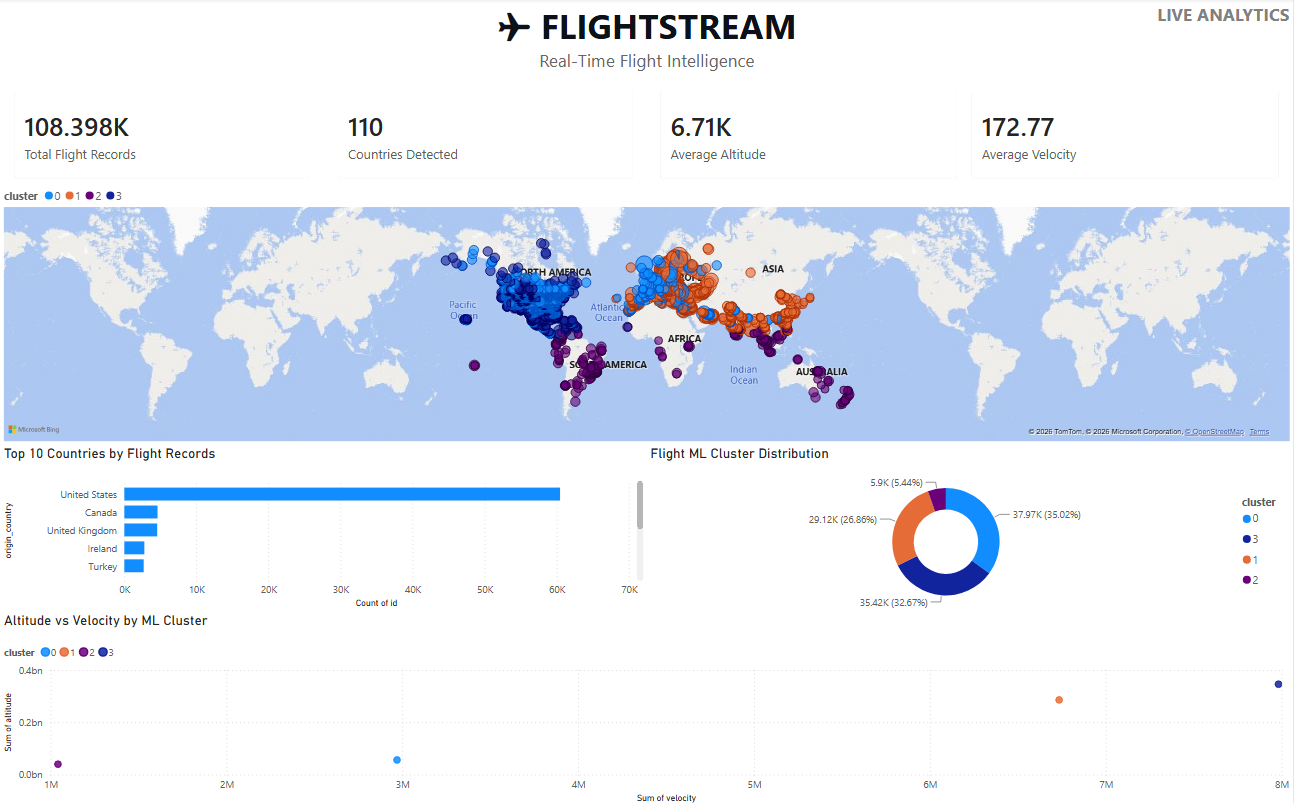

The page's visual inventory and layout, read from the dashboard file:
{"tool":"powerbi","page":{"name":"Page 1","canvas":[1600,1000],"ordinal":0},"visuals":[{"type":"cardVisual","fields":{"Data":["CountNonNull(public flight_clusters.id)"]},"box":[0,97.1,400.5,143.2],"z":0},{"type":"cardVisual","fields":{"Data":["Count(public flight_clusters.origin_country)"]},"box":[400.5,97.1,400.5,143.2],"z":1000},{"type":"cardVisual","fields":{"Data":["Avg(public flight_clusters.altitude)"]},"box":[799.3,97.1,402.2,143.2],"z":2000},{"type":"cardVisual","fields":{"Data":["Avg(public flight_clusters.velocity)"]},"box":[1184.4,97.1,415.8,143.2],"z":3000},{"type":"clusteredBarChart","title":"Top 10 Countries by Flight Records","fields":{"Y":["CountNonNull(public flight_clusters.id)"],"Category":["public flight_clusters.origin_country"]},"box":[0,553.9,801,206.2],"z":4000},{"type":"donutChart","title":"Flight ML Cluster Distribution","fields":{"Category":["public flight_clusters.cluster"],"Y":["CountNonNull(public flight_clusters.id)"]},"box":[799.3,553.9,802.7,207.9],"z":5000},{"type":"scatterChart","title":"Altitude vs Velocity by ML Cluster","fields":{"X":["Sum(public flight_clusters.velocity)"],"Y":["Sum(public flight_clusters.altitude)"],"Series":["public flight_clusters.cluster"]},"box":[0,759.1,1600.2,241.2],"z":6000},{"type":"map","fields":{"Y":["public flight_clusters.latitude"],"X":["public flight_clusters.longitude"],"Size":["CountNonNull(public flight_clusters.icao24)"],"Series":["public flight_clusters.cluster"]},"box":[0,225,1600.2,328.9],"z":7000},{"type":"textbox","box":[0,0,1600.2,115.9],"z":7001},{"type":"textbox","box":[1155.4,0,444.8,115.9],"z":7002}]}

Visuals, with their boxes in screenshot pixels (x1, y1, x2, y2), scaled from the page's 1600x1000 canvas onto the 1294x804 screenshot:
cardVisual - CountNonNull(public flight_clusters.id): {"left": 0, "top": 78, "right": 324, "bottom": 193}
cardVisual - Count(public flight_clusters.origin_country): {"left": 324, "top": 78, "right": 648, "bottom": 193}
cardVisual - Avg(public flight_clusters.altitude): {"left": 646, "top": 78, "right": 972, "bottom": 193}
cardVisual - Avg(public flight_clusters.velocity): {"left": 958, "top": 78, "right": 1293, "bottom": 193}
"Top 10 Countries by Flight Records" clusteredBarChart: {"left": 0, "top": 445, "right": 648, "bottom": 611}
"Flight ML Cluster Distribution" donutChart: {"left": 646, "top": 445, "right": 1293, "bottom": 612}
"Altitude vs Velocity by ML Cluster" scatterChart: {"left": 0, "top": 610, "right": 1293, "bottom": 803}
map - public flight_clusters.latitude x public flight_clusters.longitude: {"left": 0, "top": 181, "right": 1293, "bottom": 445}
textbox: {"left": 0, "top": 0, "right": 1293, "bottom": 93}
textbox: {"left": 934, "top": 0, "right": 1293, "bottom": 93}
